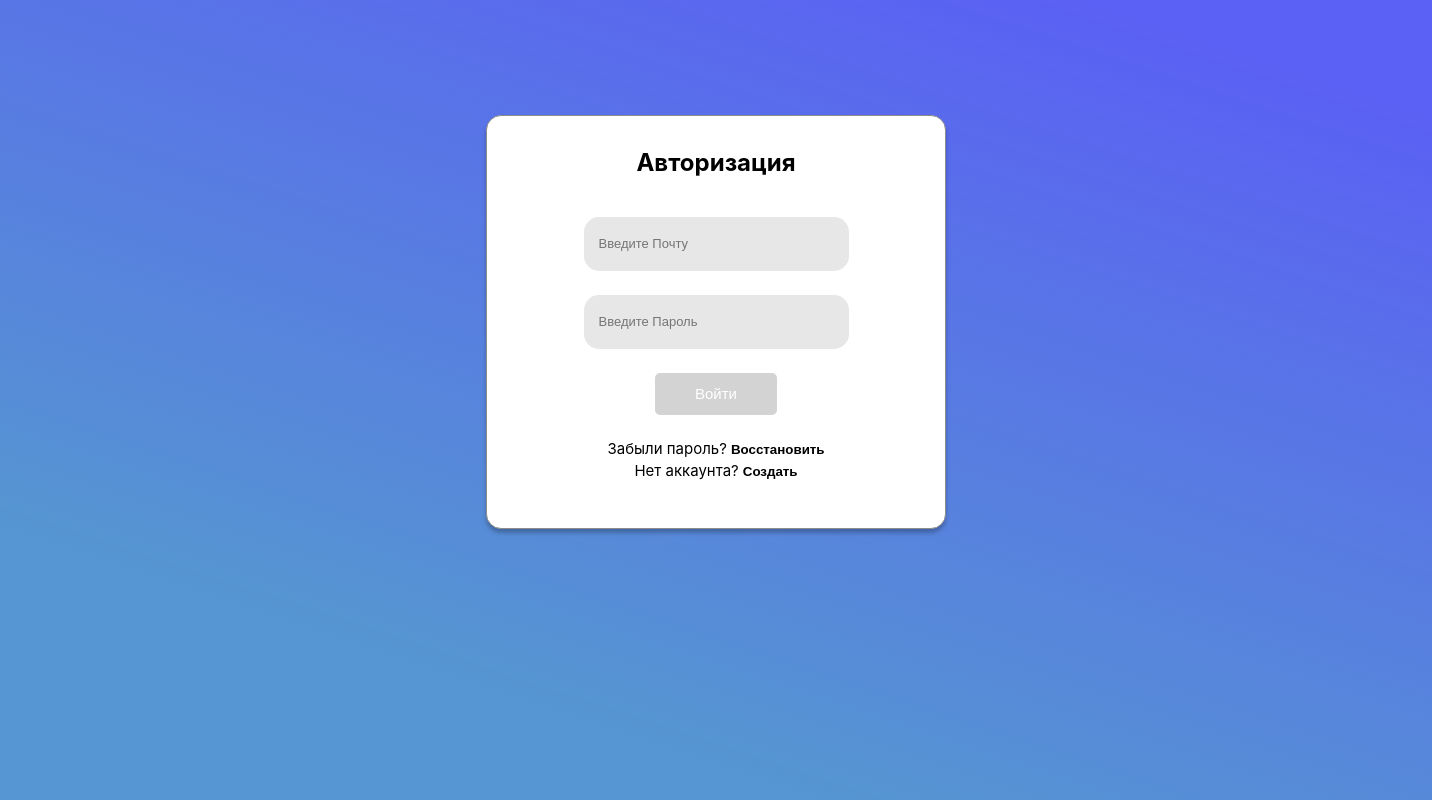
Test: login › submit button should be enabled when data is correct
Type "test@gmail.com" into the field with test id "email" at (717, 244), box [584,217,849,271]
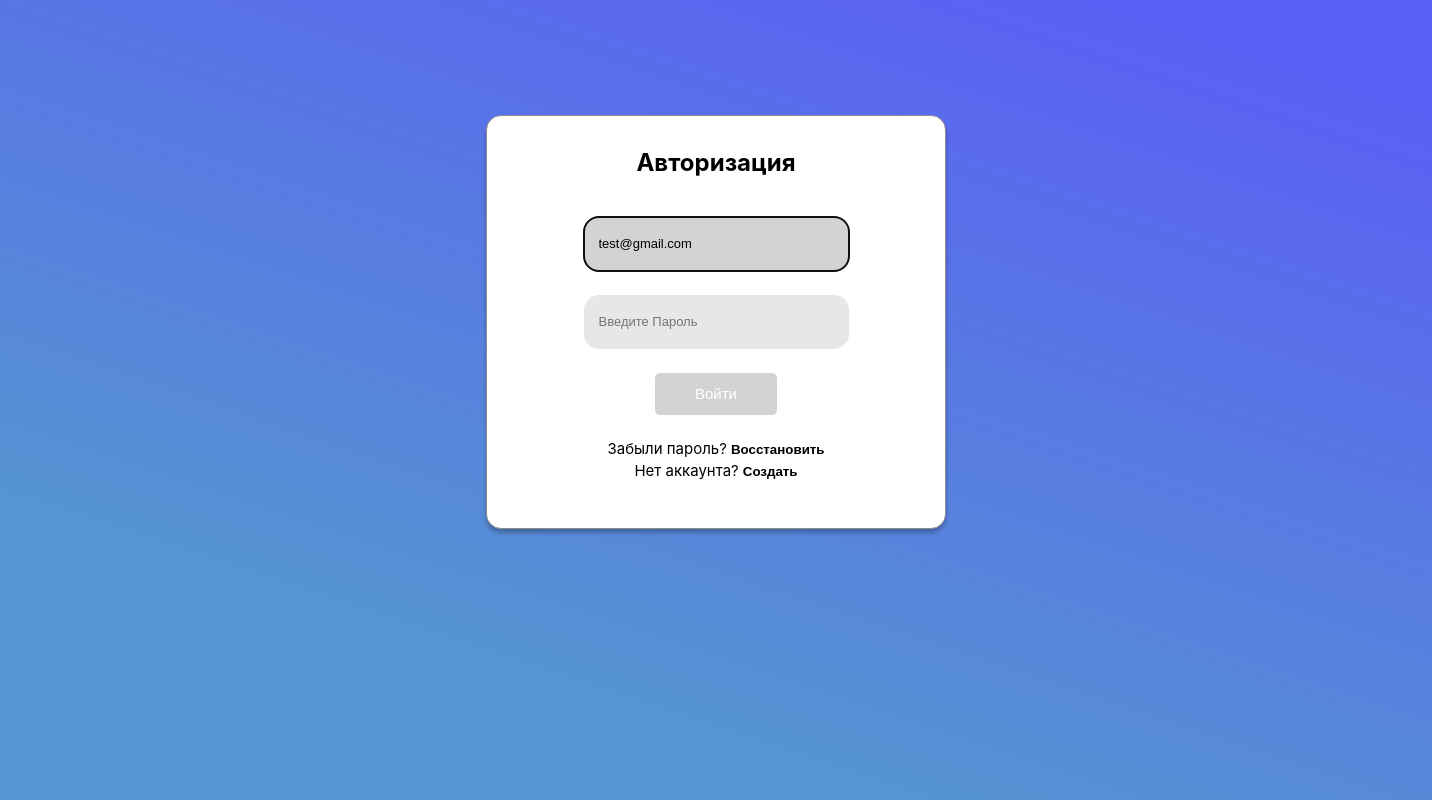
Type "asdjnakfsd" into the password field with test id "password" at (717, 322), box [584,295,849,349]
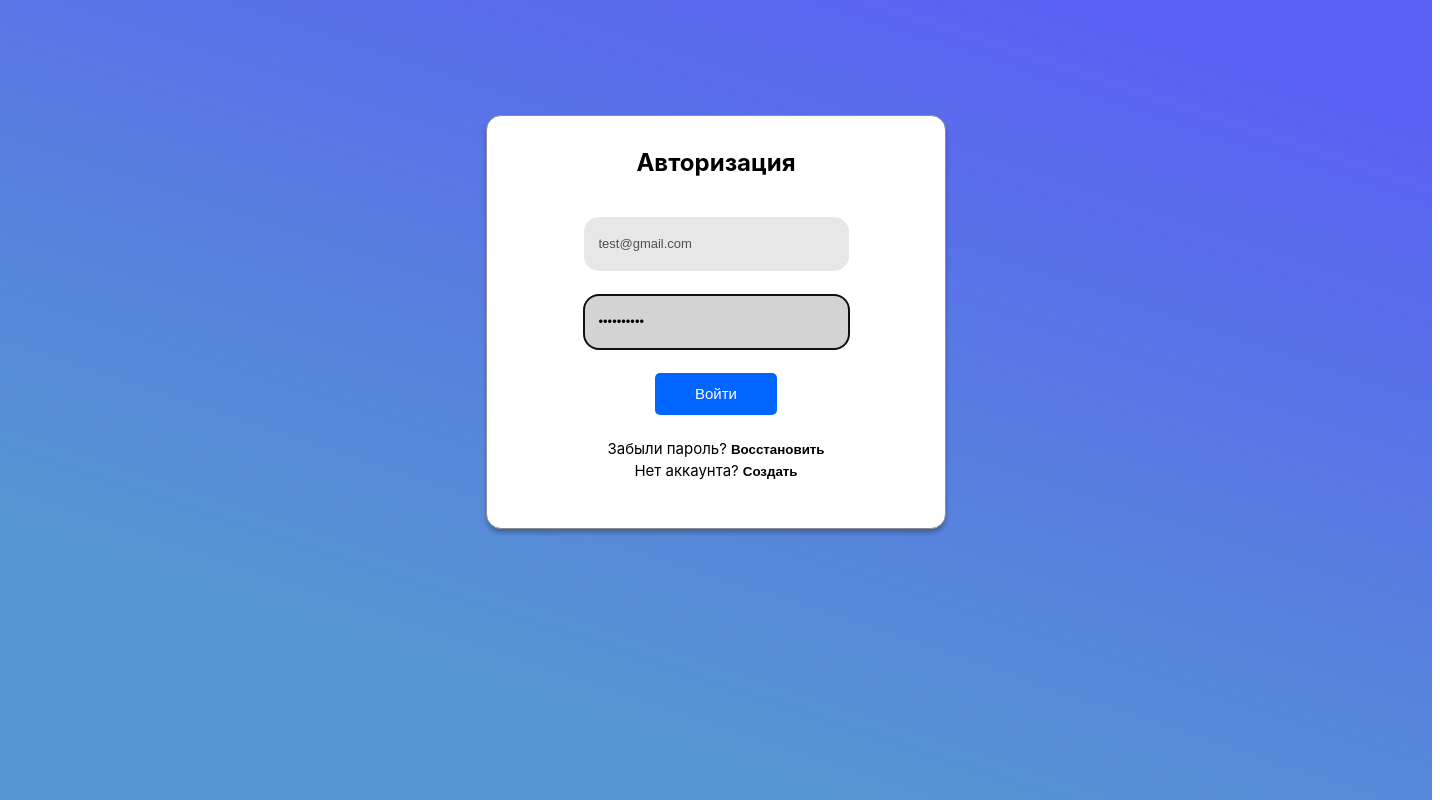
Result: the button with test id "login-button" is enabled at [655,373,777,415]
